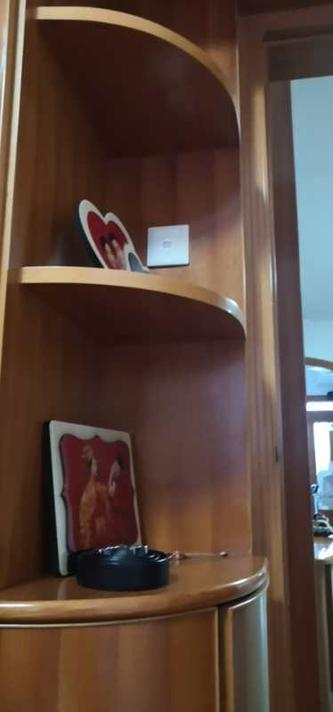switch: (159, 235, 186, 259)
